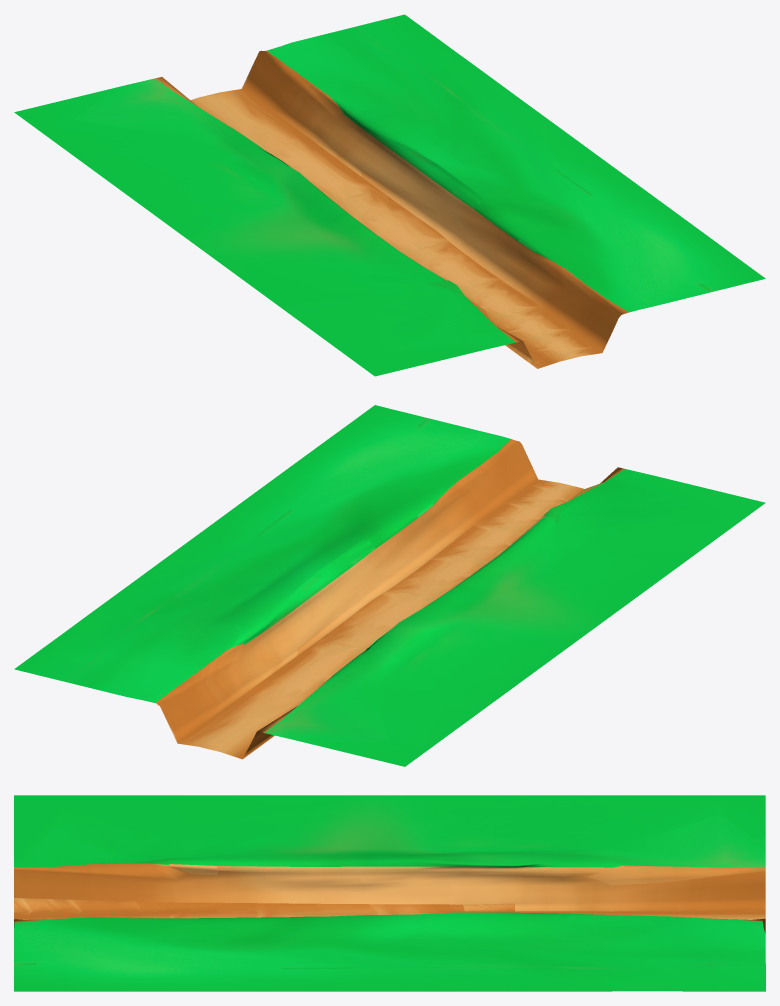
File: chunk_road_01.glb
The picture shows the model from 3 angles, top to bottom: view 1: azimuth 30°, elevation 25°; view 2: azimuth 150°, elevation 25°; view 3: azimuth 270°, elevation 25°; orthographic projection. The views are drawn at different scales.
Visible parts, largest first — view 1: Plano; view 2: Plano; view 3: Plano.
Boxes of the visible parts, box(x1,y1,x2,y2) form: Plano: box(14, 14, 765, 376); Plano: box(14, 405, 765, 766); Plano: box(14, 795, 765, 991).
Size of the model in its own units: 48.13 by 5.57 by 76.96.
2 materials, 2 textured.
